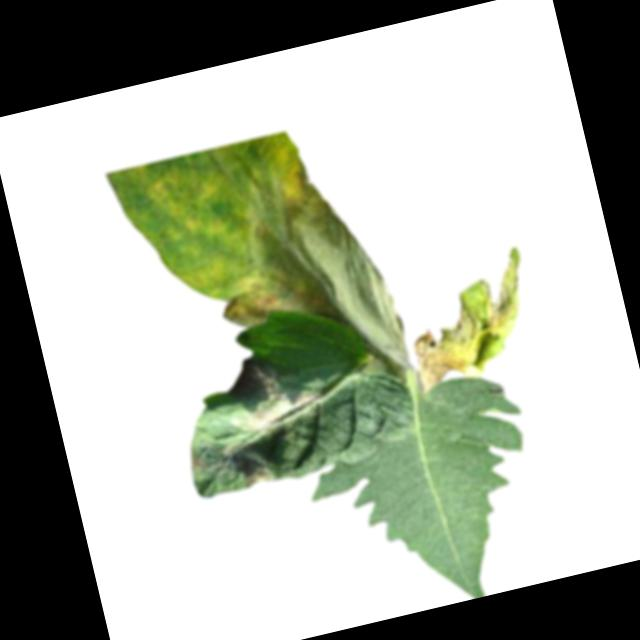Late_blight: (104, 113, 417, 434), (396, 243, 548, 393), (234, 389, 328, 436), (259, 366, 289, 403), (242, 462, 276, 489), (188, 447, 219, 475)
healthy: (294, 366, 562, 628)
